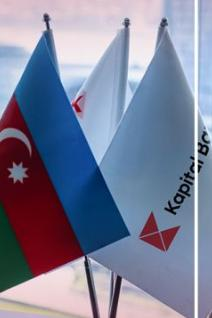Kapital Bank: (137, 207, 182, 253)
